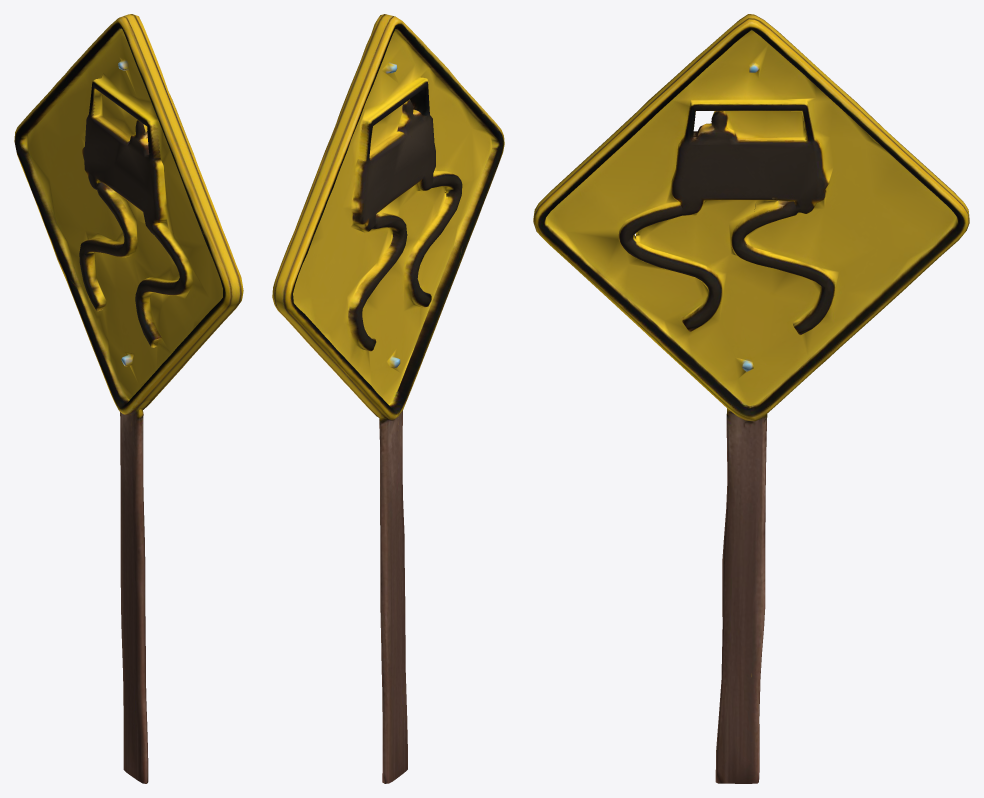
Rendered from calzadaResbaladiza.fbx.
3 renders of one model, left to right at view 1: azimuth 30°, elevation 25°; view 2: azimuth 150°, elevation 25°; view 3: azimuth 270°, elevation 25°, orthographic.
Parts seen in each view (by area): view 1: tripo_node_bc54083f; view 2: tripo_node_bc54083f; view 3: tripo_node_bc54083f.
Boxes of the visible parts, x1,y1,x2,y2 form: tripo_node_bc54083f: (14,14,243,783); tripo_node_bc54083f: (272,14,504,783); tripo_node_bc54083f: (533,14,969,783).
Bounding box in the file's own units: 0.0295 × 0.9998 × 0.5167.
Materials: 1 (1 with a texture image).
